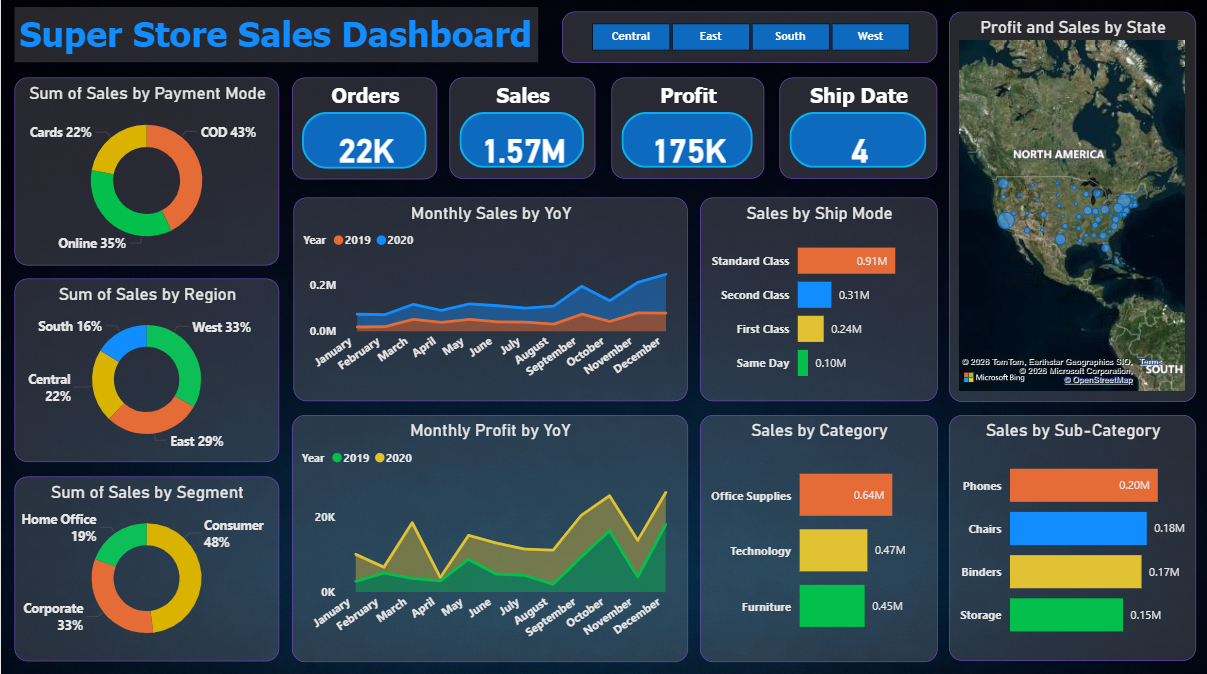

The page's visual inventory and layout, read from the dashboard file:
{"tool":"powerbi","page":{"name":"Dashboard","canvas":[1280,720],"ordinal":0},"visuals":[{"type":"clusteredBarChart","title":"Sales by Category","fields":{"Category":["Sheet1.Category"],"Y":["Sum(Sheet1.Sales)"]},"box":[740.5,442.6,252.1,262.1],"z":0},{"type":"clusteredBarChart","title":"Sales by Sub-Category","fields":{"Category":["Sheet1.Sub-Category","Sheet1.Ship Mode"],"Y":["Sum(Sheet1.Sales)"]},"box":[1005.5,442.6,262.1,260.7],"z":1000},{"type":"clusteredBarChart","title":"Sales by Ship Mode","fields":{"Category":["Sheet1.Ship Mode"],"Y":["Sum(Sheet1.Sales)"]},"box":[740.5,212,252.1,216.3],"z":2000},{"type":"stackedAreaChart","title":"Monthly Sales by YoY","fields":{"Y":["Sum(Sheet1.Sales)"],"Category":["Sheet1.Order Date.Variation.Date Hierarchy.Month","Sheet1.Order Date.Variation.Date Hierarchy.Day"],"Series":["Sheet1.Order Date.Variation.Date Hierarchy.Year"]},"box":[309.4,212,418.3,216.3],"z":3000},{"type":"stackedAreaChart","title":"Monthly Profit by YoY","fields":{"Category":["Sheet1.Order Date.Variation.Date Hierarchy.Month","Sheet1.Order Date.Variation.Date Hierarchy.Day"],"Series":["Sheet1.Order Date.Variation.Date Hierarchy.Year"],"Y":["Sum(Sheet1.Profit)"]},"box":[308,442.6,419.7,262.1],"z":4000},{"type":"map","title":"Profit and Sales by State","fields":{"Category":["Sheet1.State"],"Size":["Sum(Sheet1.Sales)"]},"box":[1005.5,14.3,262.1,414],"z":5000},{"type":"donutChart","fields":{"Category":["Sheet1.Segment"],"Y":["Sum(Sheet1.Sales)"]},"box":[14.3,507.1,280.7,196.2],"z":6000},{"type":"donutChart","fields":{"Category":["Sheet1.Payment Mode"],"Y":["Sum(Sheet1.Sales)"]},"box":[14.3,84.5,280.7,199.1],"z":7000},{"type":"slicer","fields":{"Values":["Sheet1.Region"]},"box":[594.4,14.3,398.2,54.4],"z":8000},{"type":"cardVisual","title":"Sales ","fields":{"Data":["Sum(Sheet1.Sales)"]},"box":[475.6,84.5,154.7,107.4],"z":9000},{"type":"cardVisual","title":"Orders","fields":{"Data":["Sum(Sheet1.Quantity)"]},"box":[308.6,84.3,154.3,108.2],"z":10000},{"type":"cardVisual","title":"Profit","fields":{"Data":["Sum(Sheet1.Profit)"]},"box":[647.4,84.5,161.9,107.4],"z":11000},{"type":"cardVisual","title":"Ship Date","fields":{"Data":["Avg(Super market Sales.AvgDelivery)"]},"box":[825.1,84.5,167.6,107.4],"z":12000},{"type":"donutChart","fields":{"Y":["Sum(Sheet1.Sales)"],"Category":["Super Store Sales.Region"]},"box":[14.3,297.9,280.7,194.8],"z":13000},{"type":"textbox","box":[14.3,9.5,555.1,58.9],"z":14000}]}

Visuals, with their boxes in screenshot pixels (x1, y1, x2, y2), scaled from the page's 1280x720 canvas onto the 1207x674 screenshot:
"Sales by Category" clusteredBarChart: <box>698,414,936,660</box>
"Sales by Sub-Category" clusteredBarChart: <box>948,414,1195,658</box>
"Sales by Ship Mode" clusteredBarChart: <box>698,198,936,401</box>
"Monthly Sales by YoY" stackedAreaChart: <box>292,198,686,401</box>
"Monthly Profit by YoY" stackedAreaChart: <box>290,414,686,660</box>
"Profit and Sales by State" map: <box>948,13,1195,401</box>
donutChart - Sheet1.Segment x Sum(Sheet1.Sales): <box>13,475,278,658</box>
donutChart - Sheet1.Payment Mode x Sum(Sheet1.Sales): <box>13,79,278,265</box>
slicer - Sheet1.Region: <box>561,13,936,64</box>
"Sales " cardVisual: <box>448,79,594,180</box>
"Orders" cardVisual: <box>291,79,437,180</box>
"Profit" cardVisual: <box>610,79,763,180</box>
"Ship Date" cardVisual: <box>778,79,936,180</box>
donutChart - Sum(Sheet1.Sales) x Super Store Sales.Region: <box>13,279,278,461</box>
textbox: <box>13,9,537,64</box>
